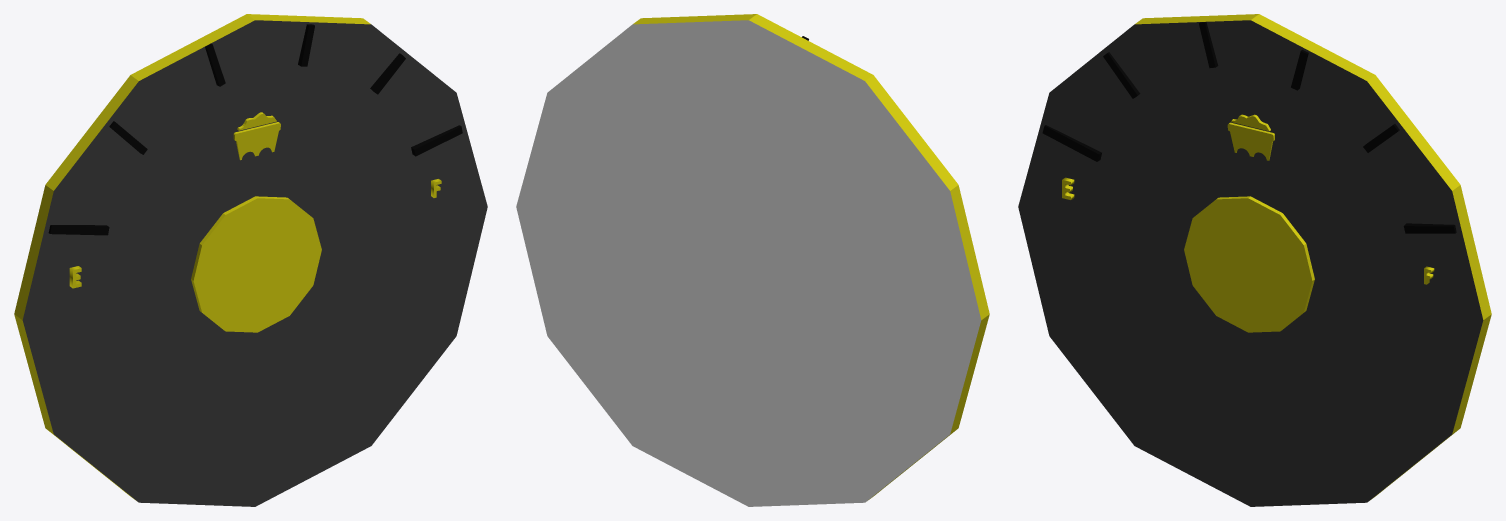
File: FuelGauge.fbx
3 renders of one model, left to right at view 1: azimuth 30°, elevation 25°; view 2: azimuth 150°, elevation 25°; view 3: azimuth 330°, elevation 25°, orthographic.
Visible parts, largest first — view 1: FuelGauge; view 2: FuelGauge; view 3: FuelGauge.
Part boxes in pixels (x1,y1,x2,y2): FuelGauge: (14, 14, 487, 506); FuelGauge: (516, 14, 989, 506); FuelGauge: (1018, 14, 1491, 506).
Size of the model in its own units: 115 by 115 by 5.05.
